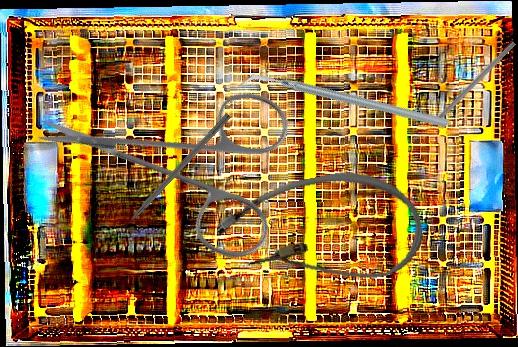Cannula: (210, 159, 430, 306)
Chopper: (240, 6, 450, 198)
Hook Surgical: (113, 111, 232, 237), (415, 39, 517, 142)
Iris Scissors: (30, 8, 340, 318)
